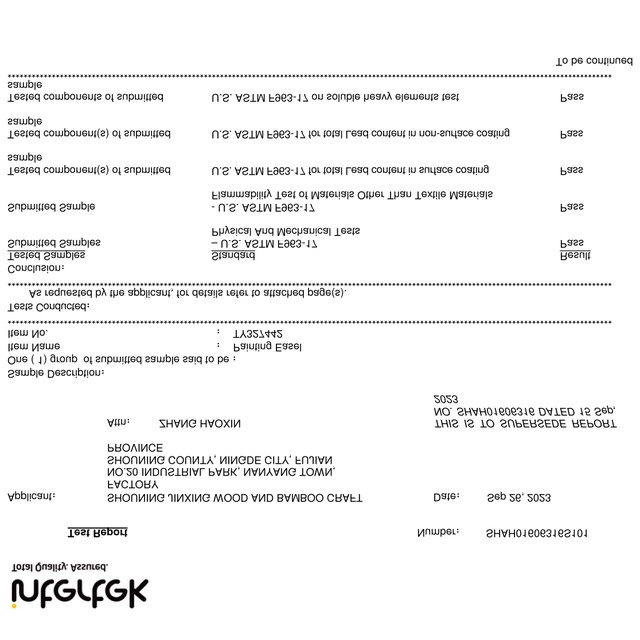intertek: (7, 574, 154, 612)
